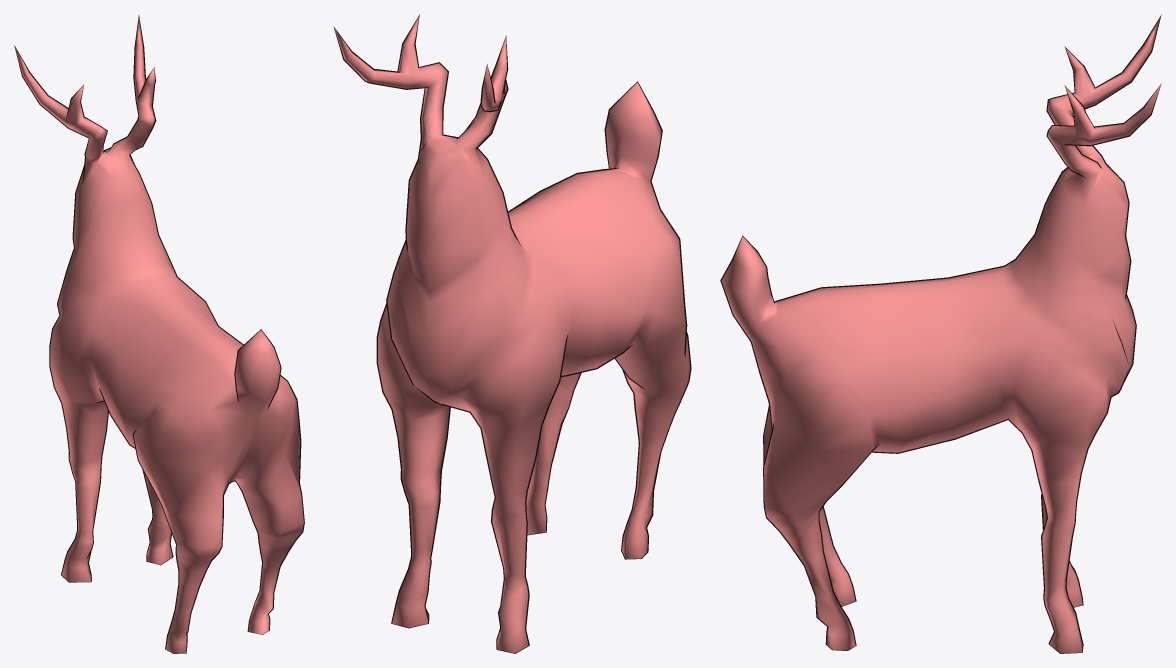
File: entity434762.gltf
The picture shows the model from 3 angles, left to right: view 1: azimuth 30°, elevation 25°; view 2: azimuth 150°, elevation 25°; view 3: azimuth 270°, elevation 25°; orthographic projection. The views are drawn at different scales.
Parts seen in each view (by area): view 1: node_mesh_deer_01; view 2: node_mesh_deer_01; view 3: node_mesh_deer_01.
Part boxes in pixels (x1,y1,x2,y2): node_mesh_deer_01: (14, 15, 304, 653); node_mesh_deer_01: (333, 14, 691, 653); node_mesh_deer_01: (720, 14, 1161, 653).
Bounding box in the file's own units: 0.8616 × 2.82 × 1.96.
